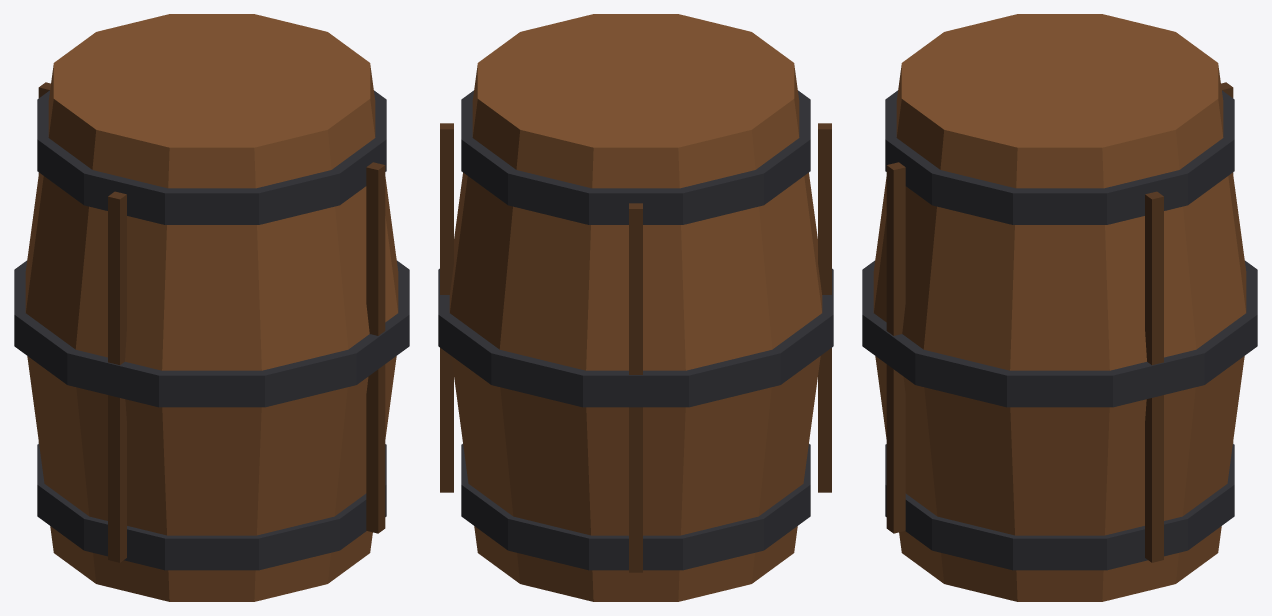
Rendered from Barrel_Small.fbx.
The picture shows the model from 3 angles, left to right: view 1: azimuth 30°, elevation 25°; view 2: azimuth 150°, elevation 25°; view 3: azimuth 270°, elevation 25°; orthographic projection.
Visible parts, largest first — view 1: Barrel_Small; view 2: Barrel_Small; view 3: Barrel_Small.
Boxes of the visible parts, box(x1,y1,x2,y2) form: Barrel_Small: box(14, 14, 409, 601); Barrel_Small: box(438, 14, 833, 601); Barrel_Small: box(862, 14, 1257, 601).
Bounding box in the file's own units: 0.568 × 0.72 × 0.568.
